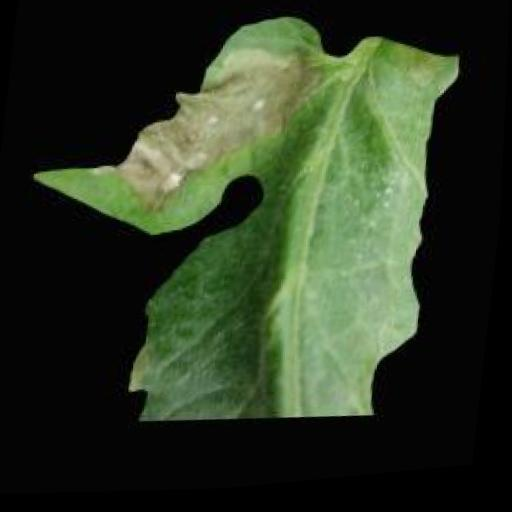Late Blight: (9, 0, 469, 454)
